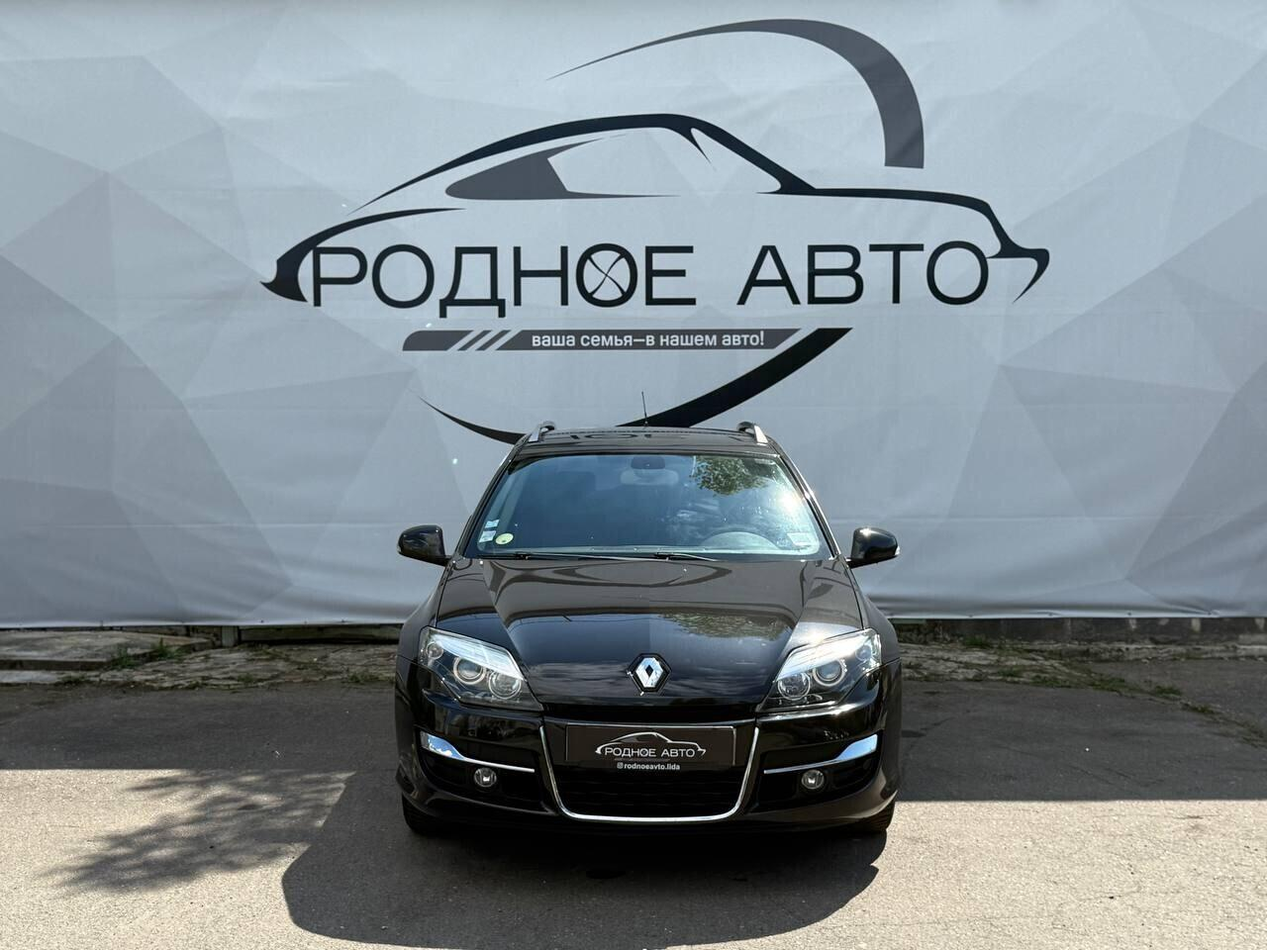Laguna_2010-2015: (387, 419, 917, 872)
